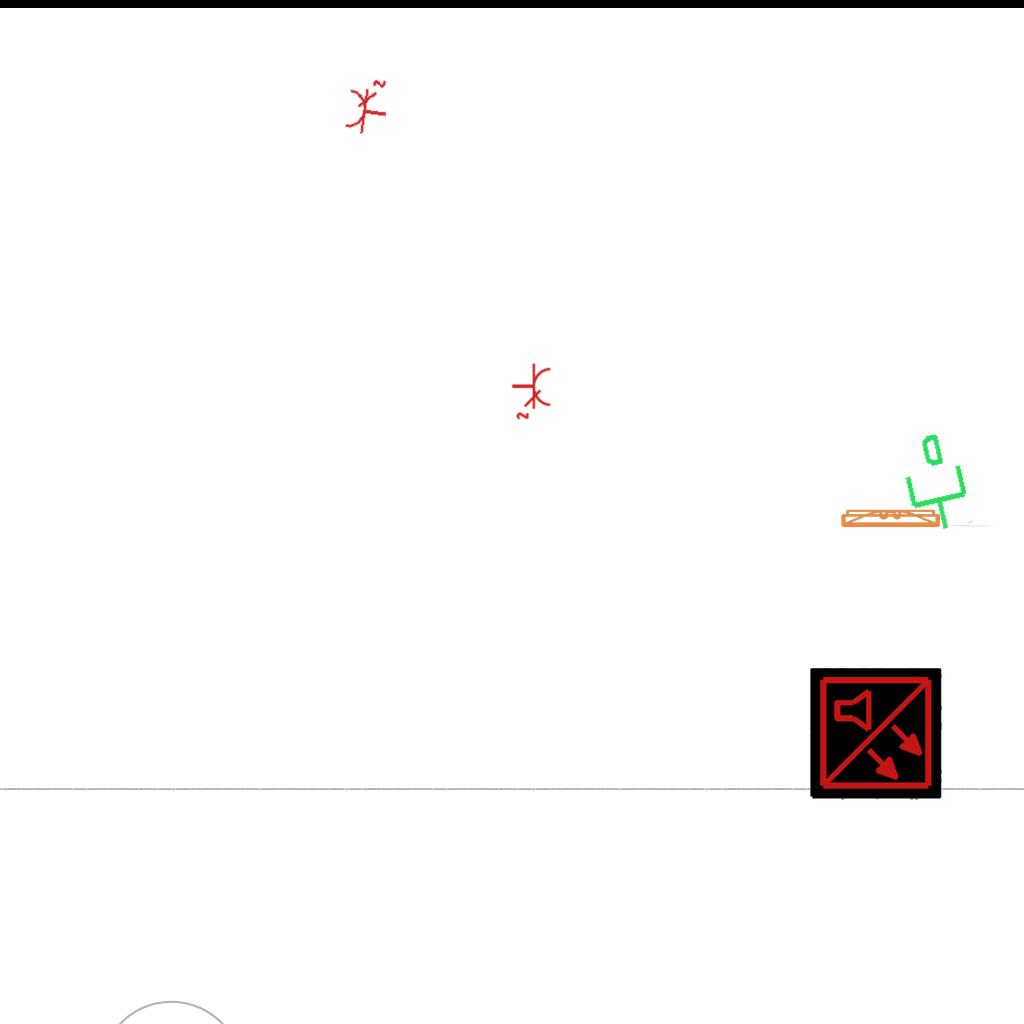Datenanschluss_einfach: (888, 426, 979, 540)
OKW_Multisensormelder_(Kombination_optischer_Rauch-Kahlenmonoxid_Waerme-Melder): (810, 668, 942, 800)
Schukosteckdose_mehrfach: (342, 74, 394, 140), (509, 361, 553, 421)
Sicherheitsleuchte_Wandeinbau: (836, 505, 995, 530)
